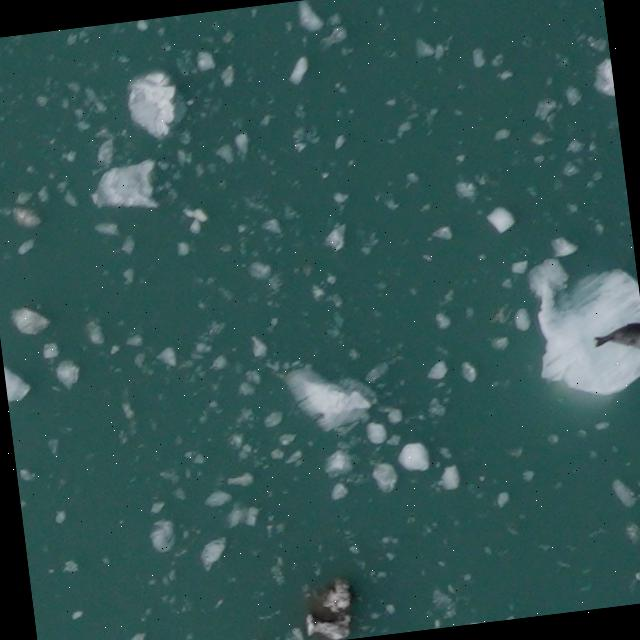seal: (587, 319, 640, 368)
